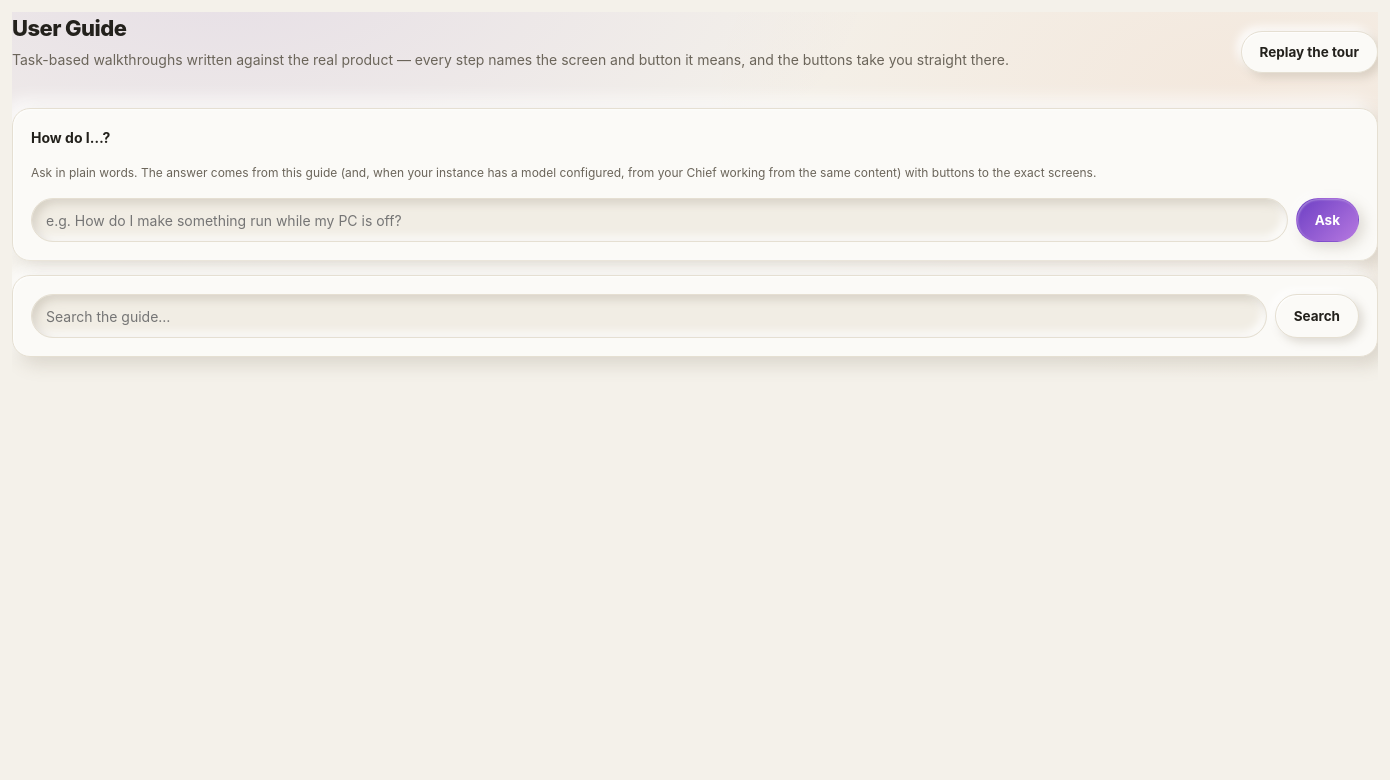
Test: guide page › renders the "How do I…?" fallback answer with deep links
In the field named "Ask the guide a question": (659, 220) [31,198,1288,242], type "How do I make a workflow?"
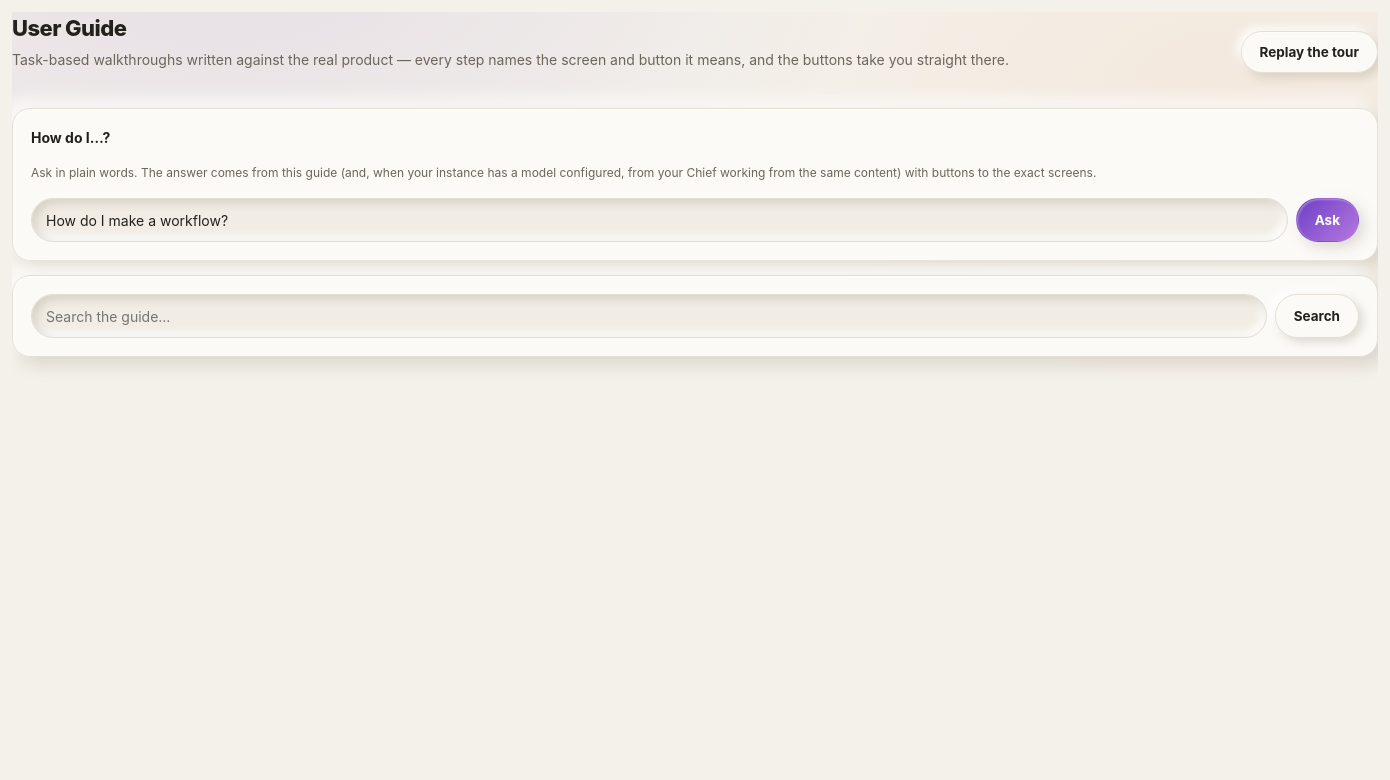
Click the button "Ask": (1327, 220) [1296,198,1359,242]
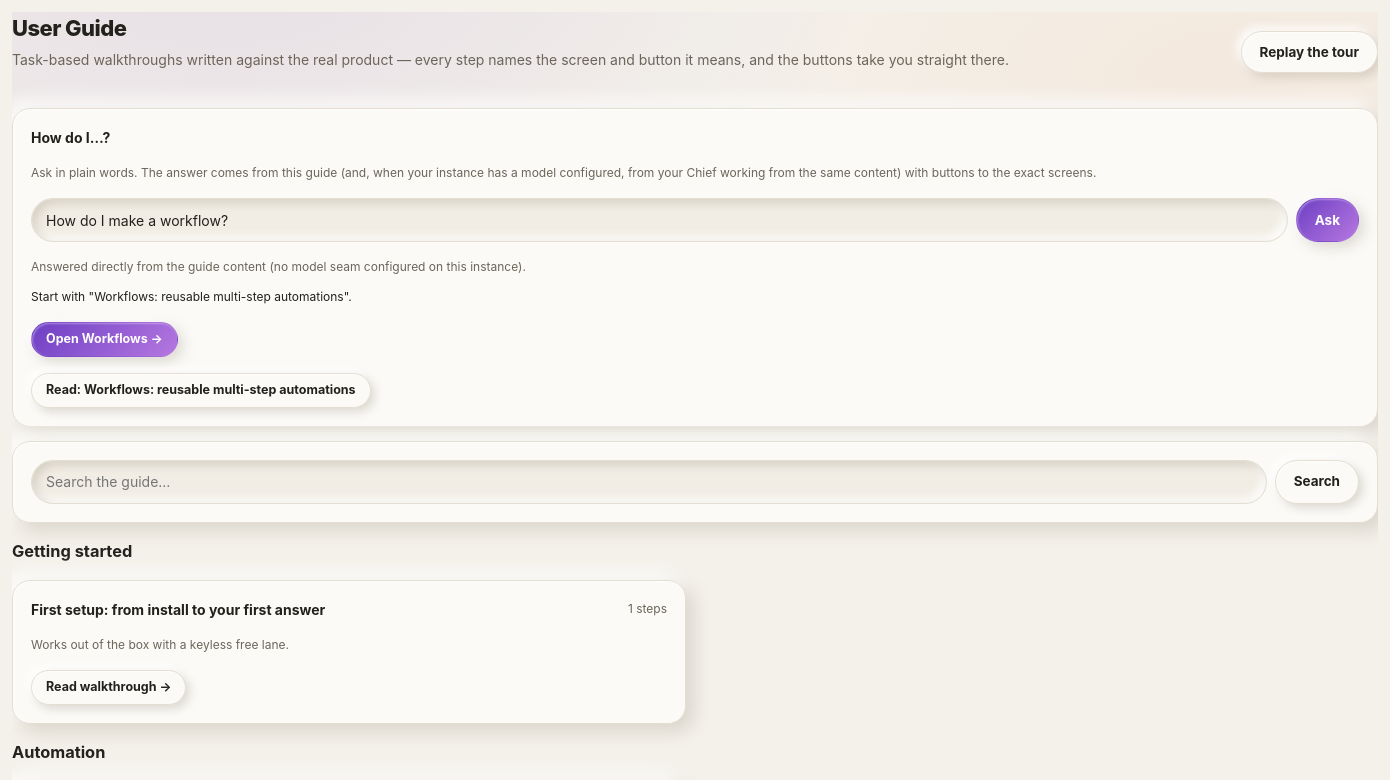
Expected: the element with test id "guide-ask-result" is shown, [31,259,526,408]
Expected: the text "Answered directly from the guide content" is shown, [31,259,526,274]
Expected: the button "Read: Workflows: reusable multi-step automations" is shown, [31,373,371,408]
